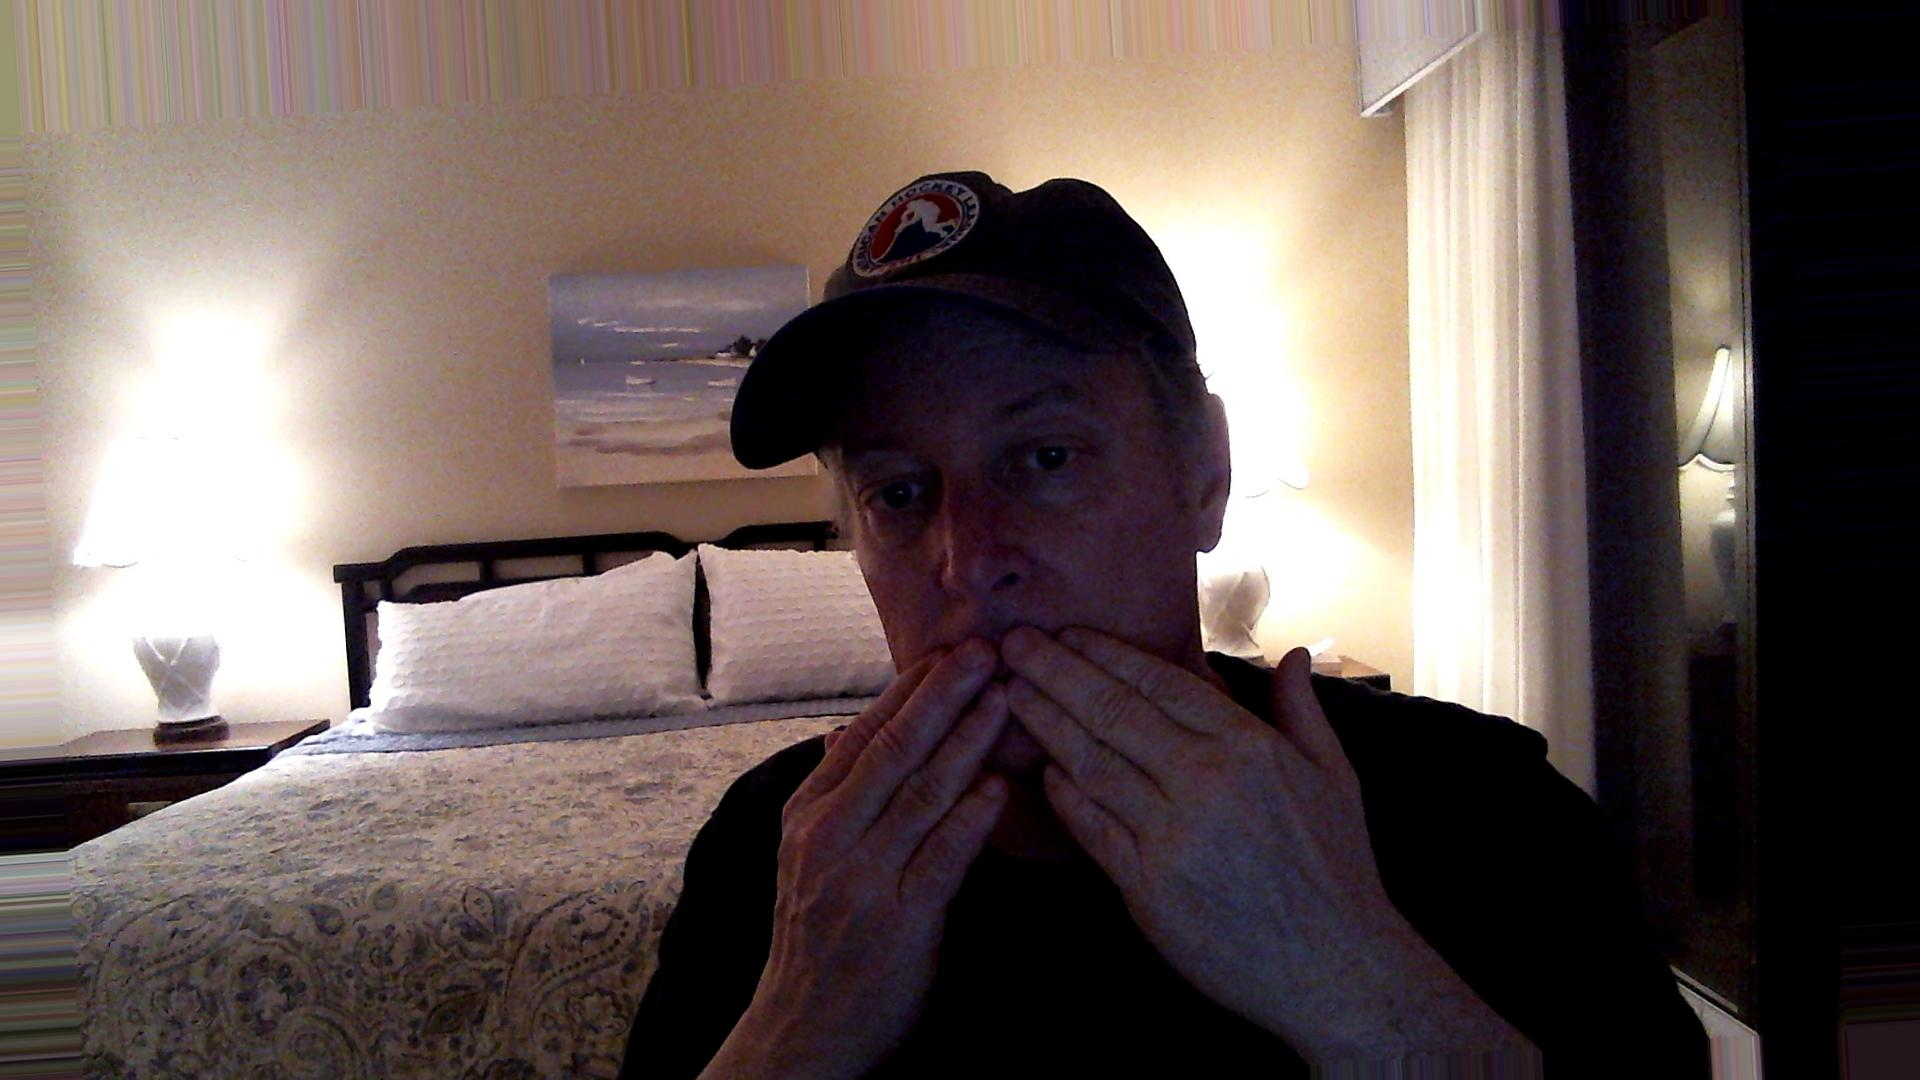Thank You: (753, 622, 1462, 1010)
